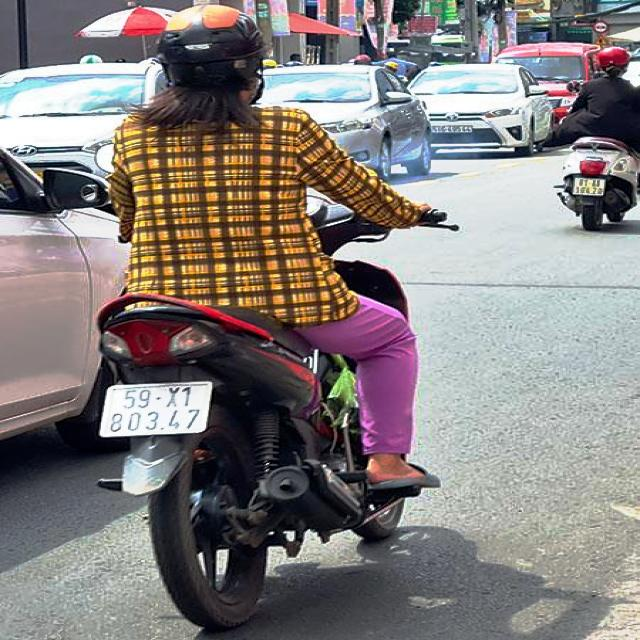license_plate: (102, 385, 211, 437)
